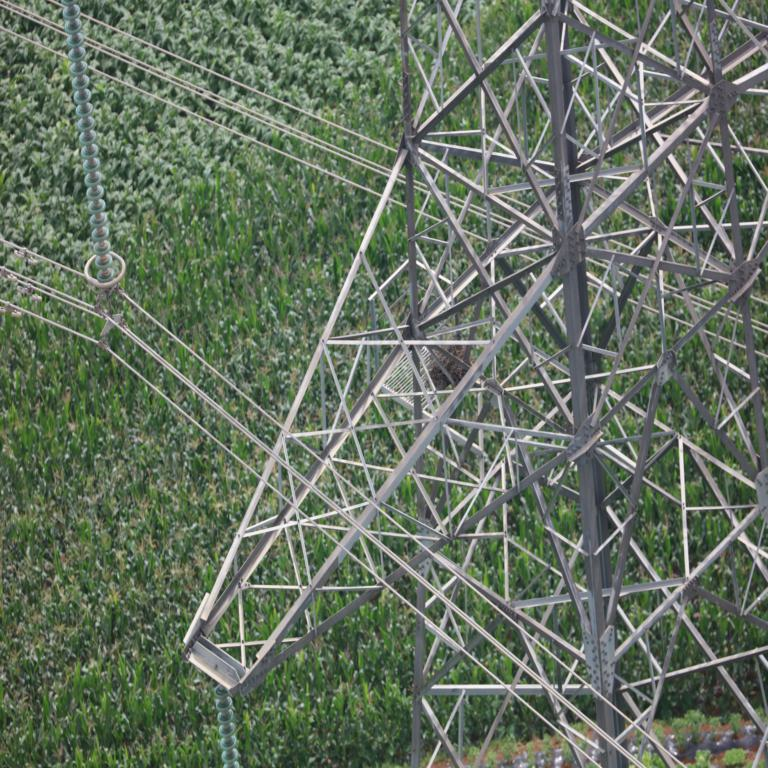nest: (429, 335, 469, 387)
